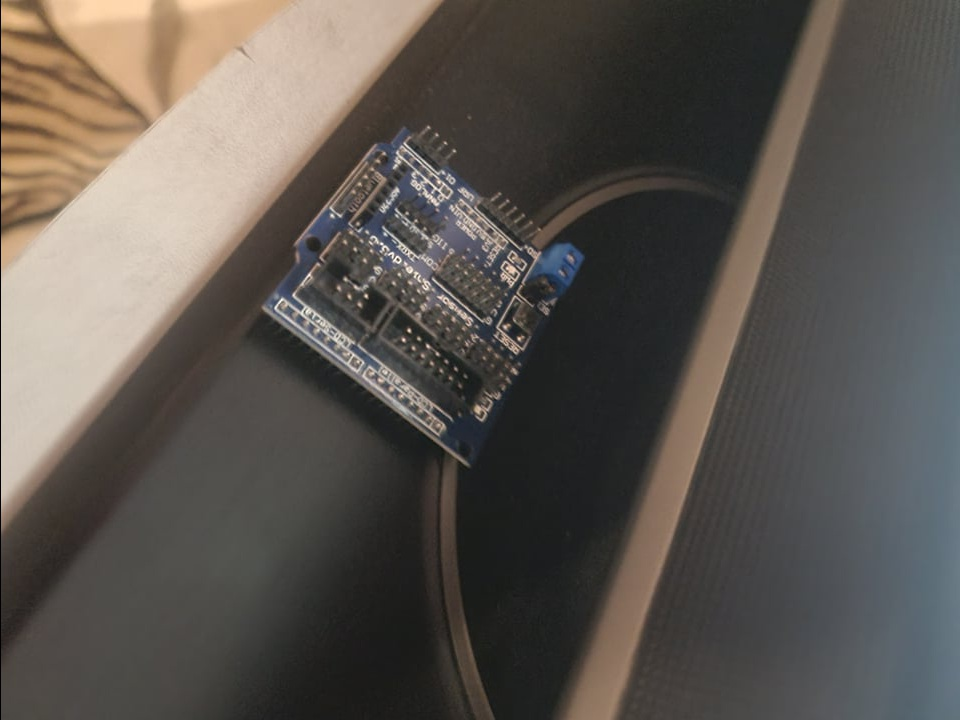5V EXPANSION: (256, 122, 583, 473)
